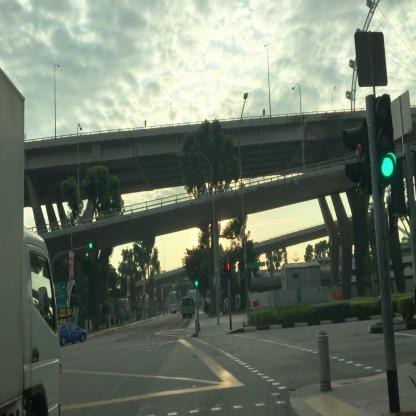green_traffic_light: (378, 99, 395, 178), (195, 270, 198, 286), (89, 243, 98, 247)
